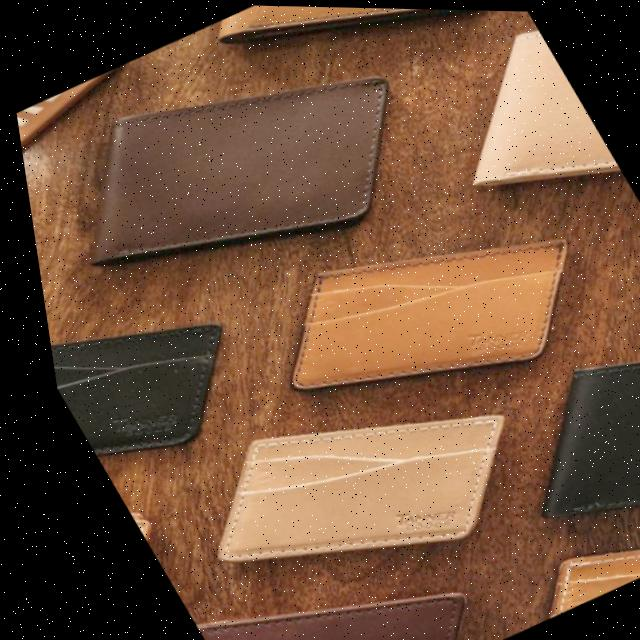cuzdan: (30, 4, 470, 323), (156, 333, 572, 633), (232, 181, 632, 445), (467, 296, 640, 573), (31, 264, 244, 488), (159, 500, 495, 640), (463, 448, 640, 632)
